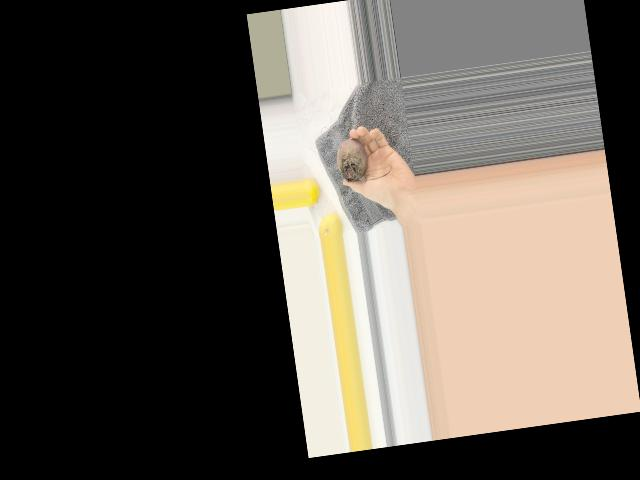beet: (334, 132, 392, 182)
